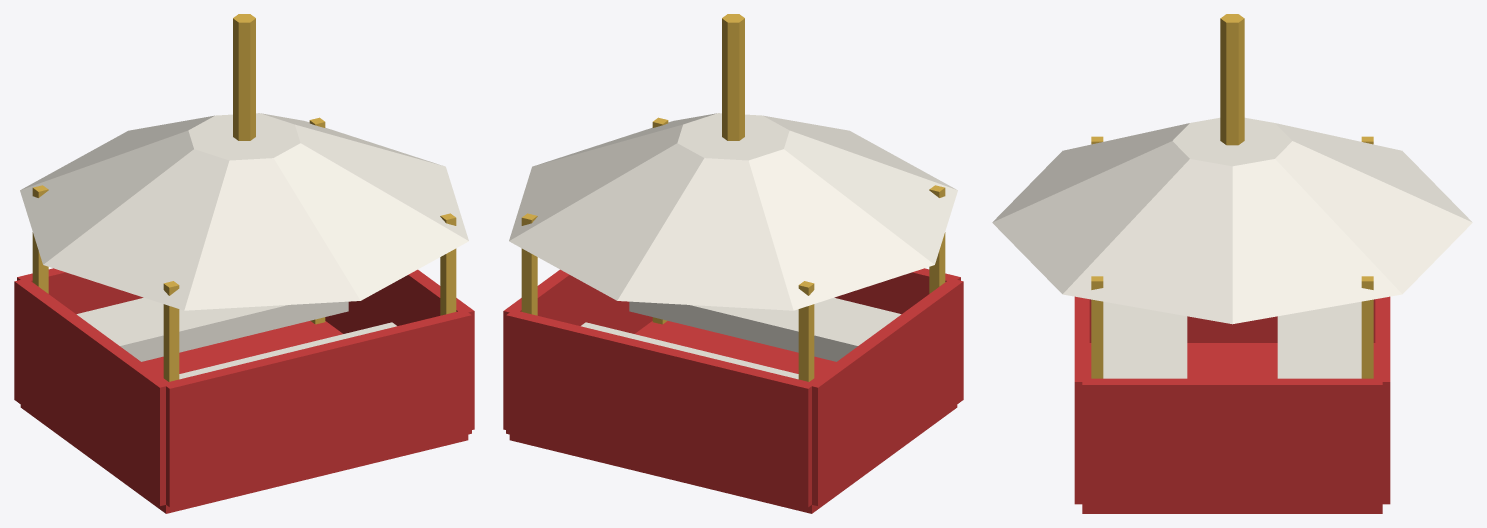
File: ferris_cabin.glb
3 views of the same model, side by side, from view 1: azimuth 30°, elevation 25°; view 2: azimuth 150°, elevation 25°; view 3: azimuth 270°, elevation 25° (orthographic). The views are drawn at different scales.
Parts seen in each view (by area): view 1: sides_fair_red, roof_fair_white, benches_fair_white, floor_fair_red, posts_fair_gold, arm_fair_gold; view 2: sides_fair_red, roof_fair_white, benches_fair_white, floor_fair_red, posts_fair_gold, arm_fair_gold; view 3: roof_fair_white, sides_fair_red, benches_fair_white, floor_fair_red, arm_fair_gold, posts_fair_gold.
Part boxes in pixels (x1,y1,x2,y2): sides_fair_red: (14,268,474,507); roof_fair_white: (20,113,468,310); benches_fair_white: (76,297,396,379); floor_fair_red: (20,321,468,513); posts_fair_gold: (32,117,456,381); arm_fair_gold: (233,14,255,140); sides_fair_red: (503,268,963,507); roof_fair_white: (509,113,957,310); benches_fair_white: (581,297,901,379); floor_fair_red: (509,321,957,513); posts_fair_gold: (521,117,945,381); arm_fair_gold: (722,14,744,140); roof_fair_white: (992,117,1472,324); sides_fair_red: (1074,296,1390,507); benches_fair_white: (1103,301,1361,378); floor_fair_red: (1082,343,1382,513); arm_fair_gold: (1220,14,1244,145); posts_fair_gold: (1091,136,1373,378).
Bounding box in the file's own units: 1.6 × 1.54 × 1.6.
